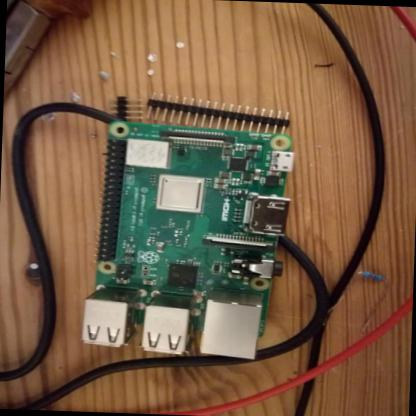Raspberry_Pi_3: (72, 111, 300, 369)
